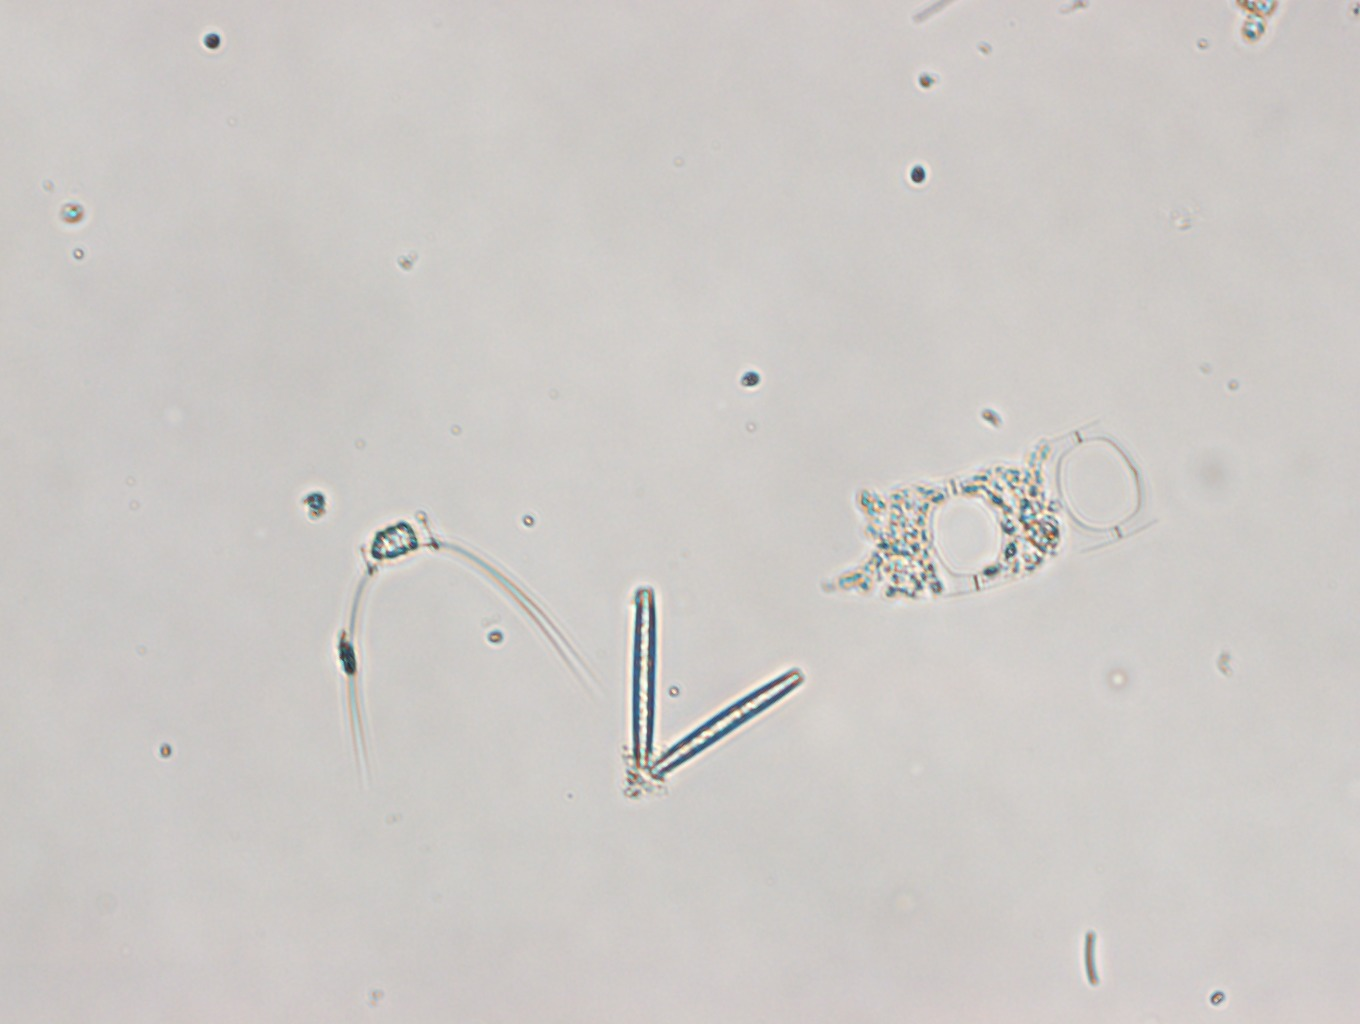chaetoceros: (345, 507, 605, 782)
eucampia: (825, 412, 1159, 610)
thalassionema nitzschioides: (629, 585, 806, 780)
